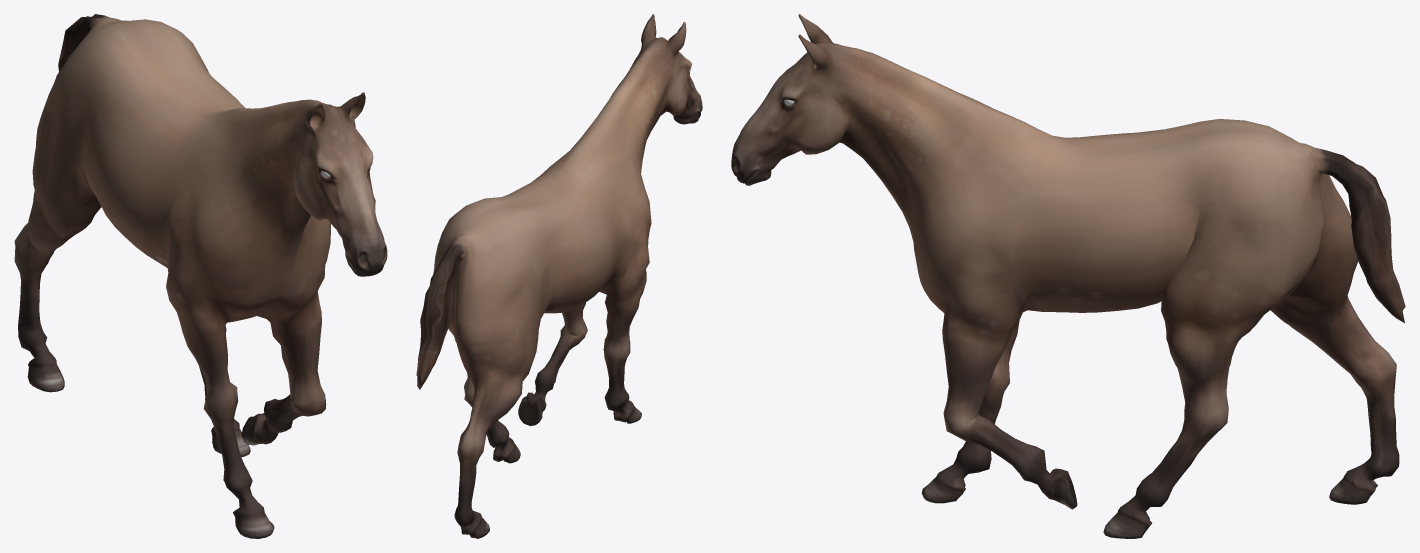
File: Horse Walk.fbx
3 views of the same model, side by side, from view 1: azimuth 30°, elevation 25°; view 2: azimuth 150°, elevation 25°; view 3: azimuth 270°, elevation 25° (orthographic). The views are drawn at different scales.
Visible parts, largest first — view 1: Horse; view 2: Horse; view 3: Horse.
Boxes of the visible parts, x1,y1,x2,y2 form: Horse: (14,14,387,538); Horse: (416,14,702,538); Horse: (731,14,1405,538).
Bounding box in the file's own units: 6.6 × 19.41 × 24.59.
Materials: 4 (1 with a texture image).
